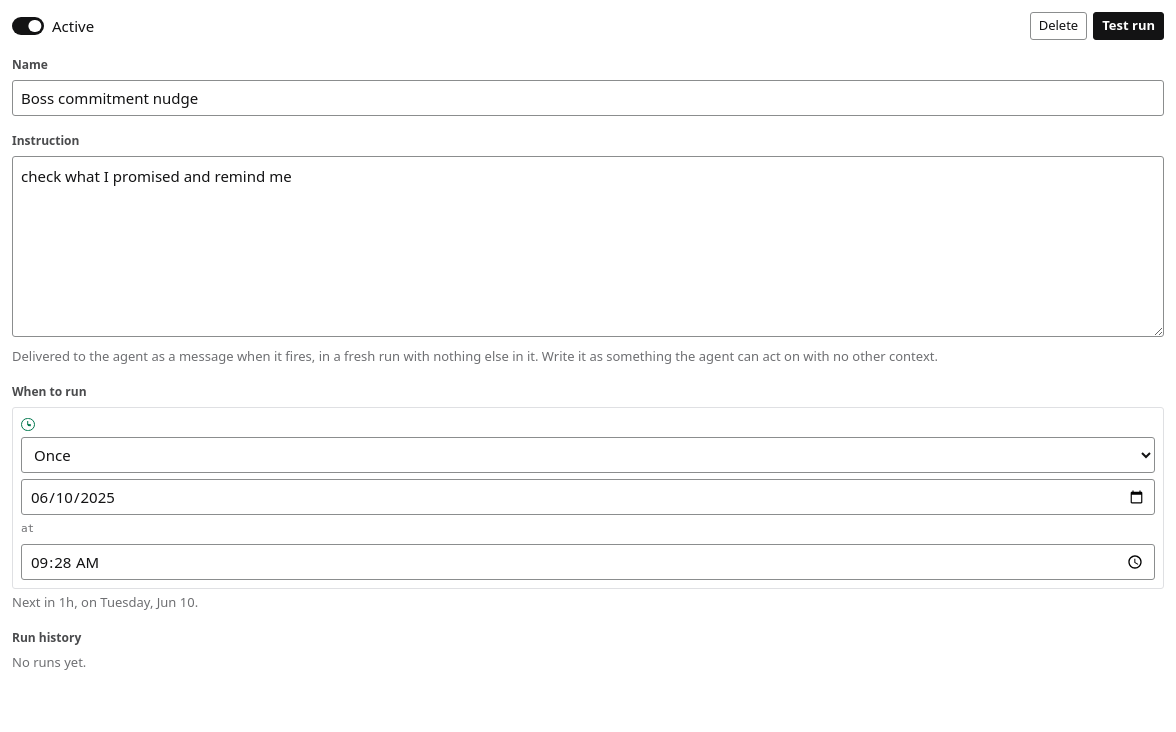
Scenario: RoutineDetail › refuses to save a one-off whose moment has gone
Type "2020-01-01" into the date field named "Date" at (588, 497), box [21,479,1155,515]
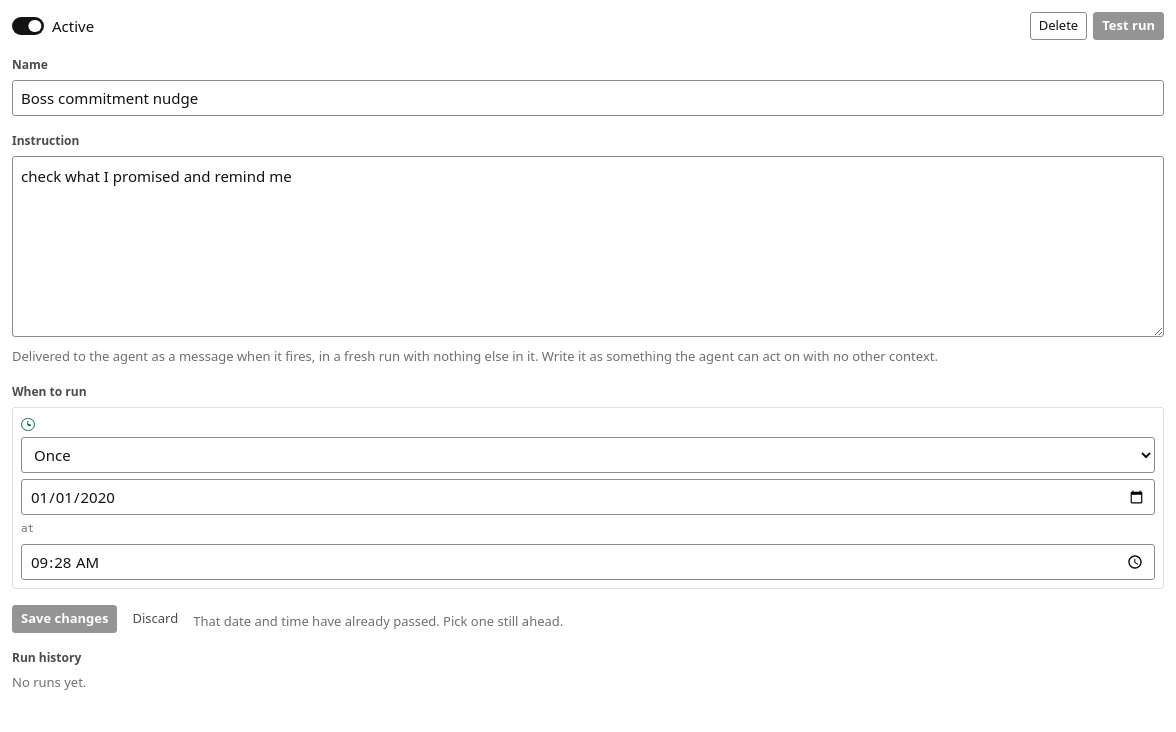
Expected: the button "Save changes" is disabled, [12,605,118,633]
Expected: the text "already passed" is shown, [193,612,563,630]
